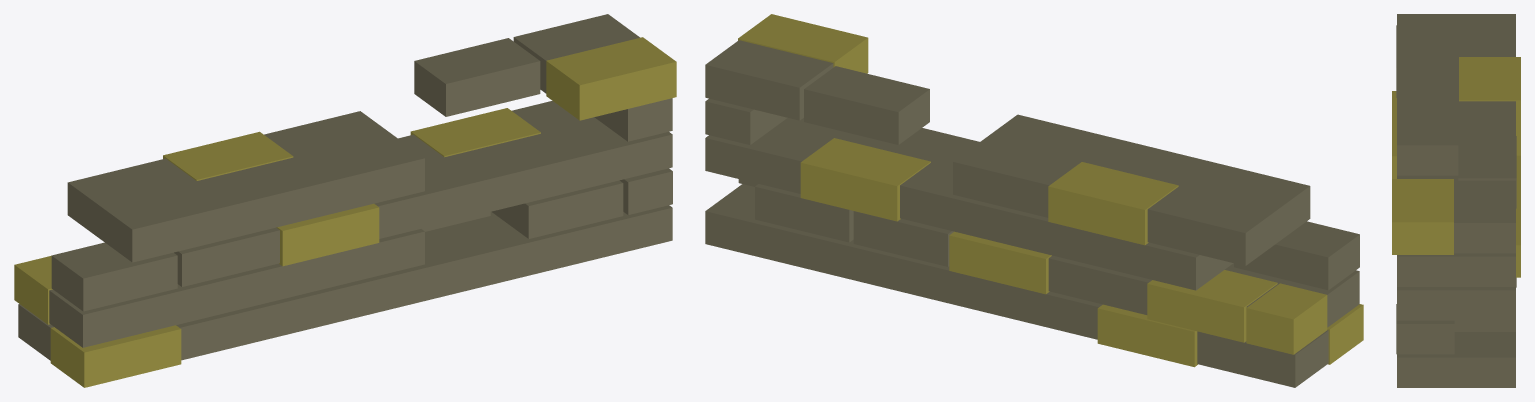
The model's file is SM_PretilTramo_v2_Irregular_e1_Danado_LOD1.fbx.
3 renders of one model, left to right at view 1: azimuth 30°, elevation 25°; view 2: azimuth 150°, elevation 25°; view 3: azimuth 270°, elevation 25°, orthographic. The views are drawn at different scales.
Visible parts, largest first — view 1: SM_pretil_azotea_v9_LOD1; view 2: SM_pretil_azotea_v9_LOD1; view 3: SM_pretil_azotea_v9_LOD1.
Boxes of the visible parts, x1=… form: SM_pretil_azotea_v9_LOD1: x1=14, y1=14, x2=676, y2=387; SM_pretil_azotea_v9_LOD1: x1=705, y1=14, x2=1363, y2=387; SM_pretil_azotea_v9_LOD1: x1=1392, y1=14, x2=1520, y2=387.
Size of the model in its own units: 5.08 by 1.49 by 1.04.
